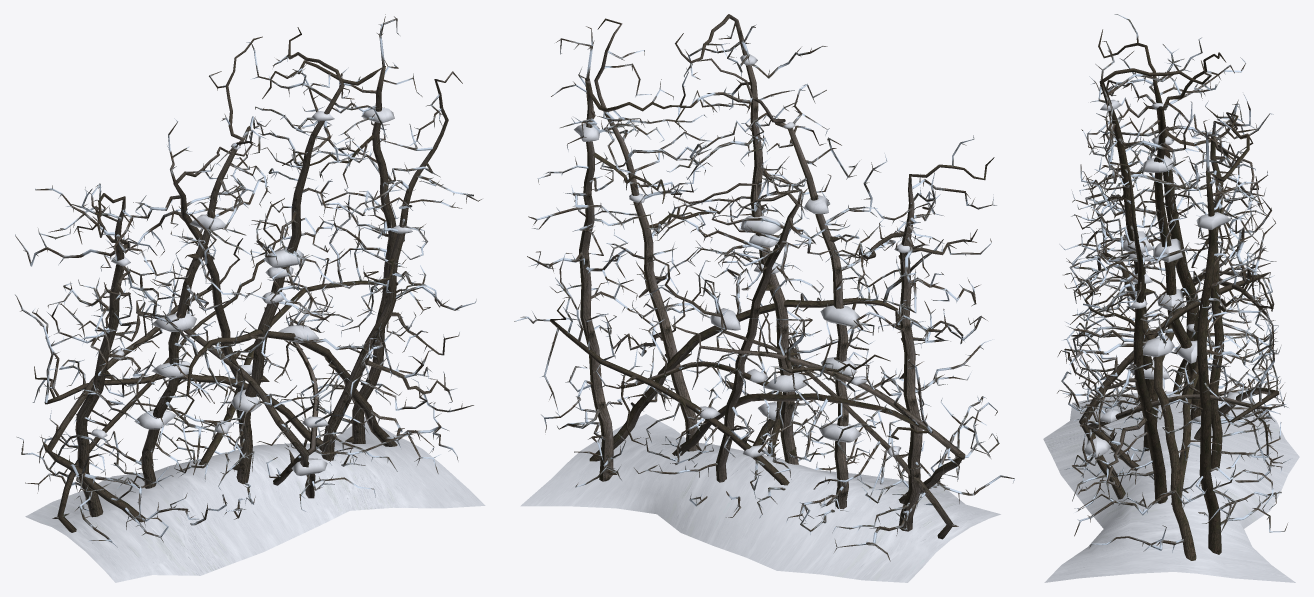
Rendered from hd_thorn3a.glb.
3 renders of one model, left to right at view 1: azimuth 30°, elevation 25°; view 2: azimuth 150°, elevation 25°; view 3: azimuth 270°, elevation 25°, orthographic. The views are drawn at different scales.
Parts seen in each view (by area): view 1: hd_thorn3a; view 2: hd_thorn3a; view 3: hd_thorn3a.
Boxes of the visible parts, box(x1,y1,x2,y2) form: hd_thorn3a: box(15, 14, 485, 582); hd_thorn3a: box(514, 14, 1014, 582); hd_thorn3a: box(1043, 14, 1299, 582).
Size of the model in its own units: 2.76 by 3.02 by 1.51.
1 material, 1 textured.
